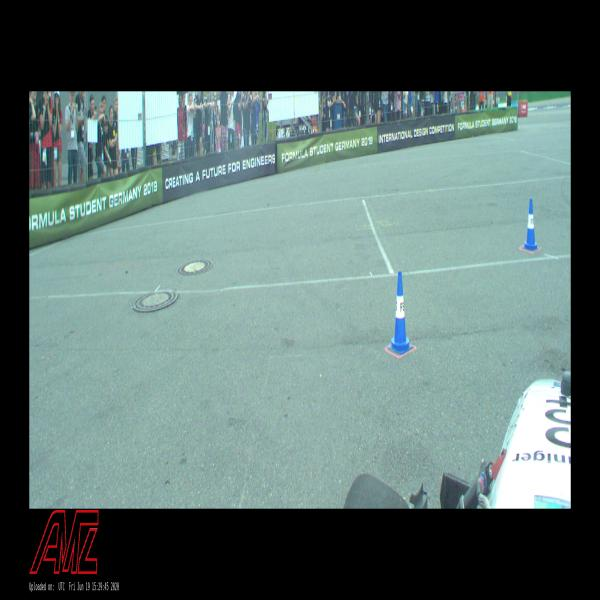blue_cone: (389, 272, 412, 354), (523, 198, 539, 252)
